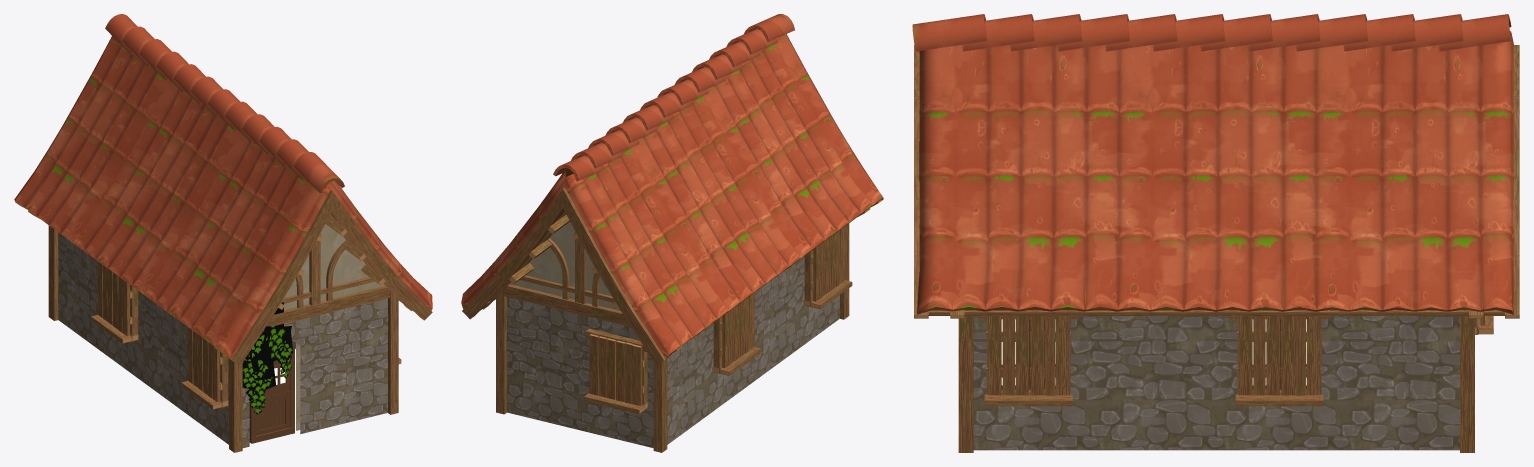
The model's file is kit-longhouse.glb.
3 views of the same model, side by side, from view 1: azimuth 30°, elevation 25°; view 2: azimuth 150°, elevation 25°; view 3: azimuth 270°, elevation 25° (orthographic). The views are drawn at different scales.
Visible parts, largest first — view 1: house; view 2: house; view 3: house.
Part boxes in pixels (x1,y1,x2,y2): house: (14, 14, 432, 452); house: (461, 14, 883, 452); house: (912, 14, 1519, 452).
Size of the model in its own units: 5.51 by 6.71 by 9.68.
Materials: 7 (6 with a texture image).
